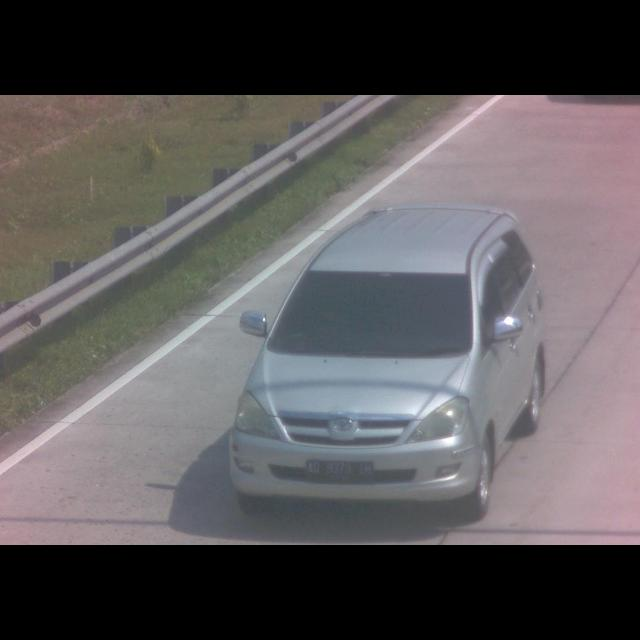plate: (305, 458, 375, 485)
